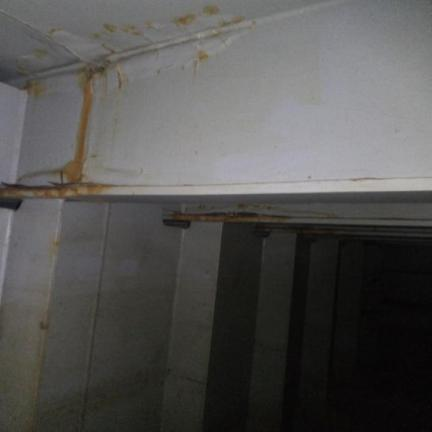karat: (34, 71, 111, 197)
